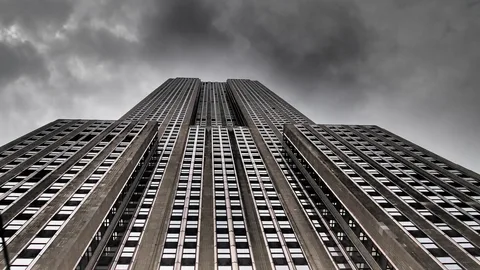high_rise_building: (138, 60, 313, 269)
